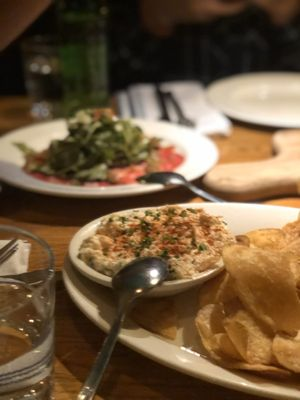salad: (77, 257, 169, 399), (137, 170, 221, 202)
soup: (195, 215, 300, 378)
